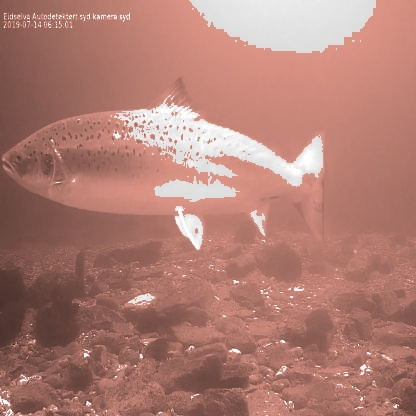salmon: (1, 72, 328, 254)
